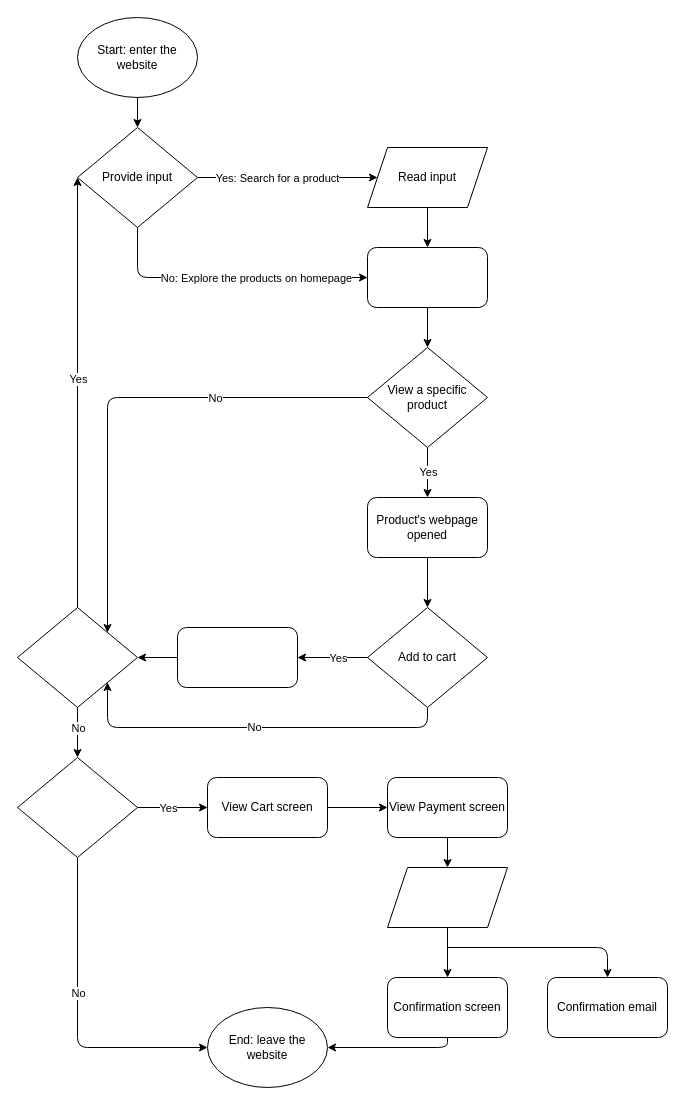
The diagram is 685 pixels wide and 1105 high, and some of its shapes have lost their labels. Here are the shapes that lost their labels. From the top down, the centre of each, then its label:
At pixel 427 277: "Products shown".
At pixel 77 657: "Continue shopping".
At pixel 237 657: "Confirmation message".
At pixel 77 807: "Checkout".
At pixel 447 897: "Read payment information".
